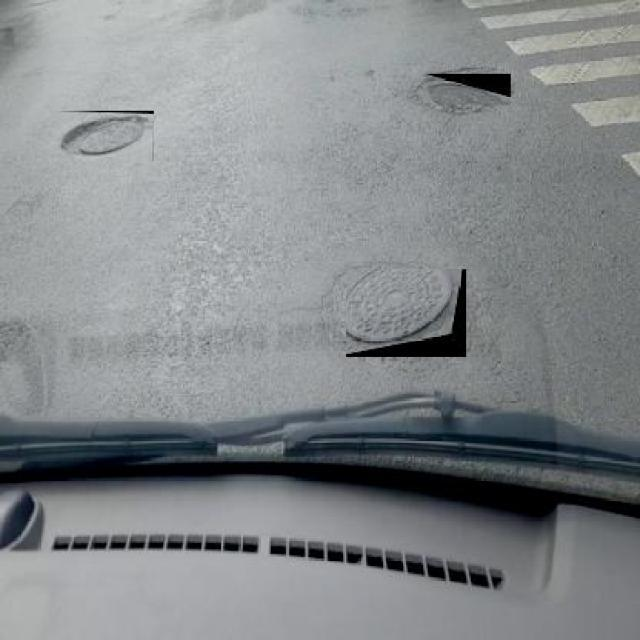Manhole: (347, 269, 467, 357), (55, 111, 154, 160), (424, 74, 510, 105)
